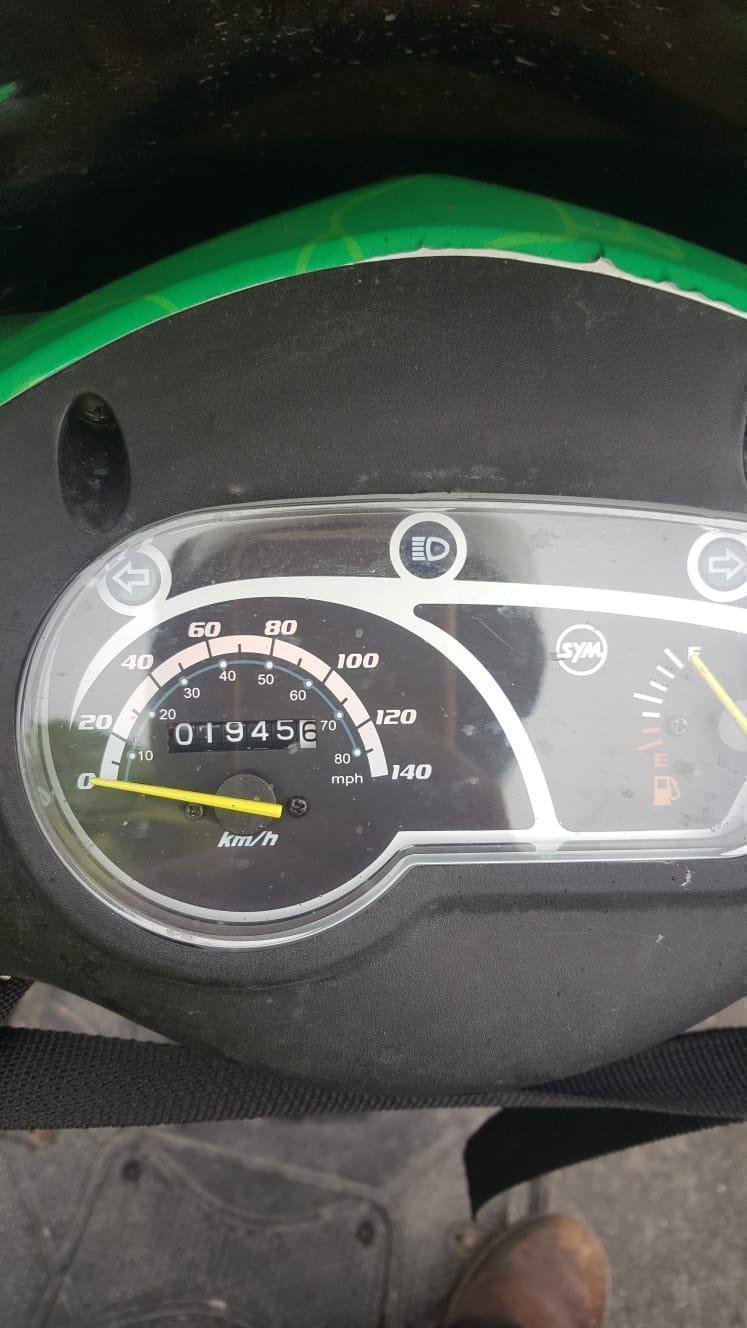0: (172, 721, 195, 751)
1: (202, 719, 217, 747)
4: (249, 720, 271, 741)
5: (275, 716, 295, 743)
6: (301, 720, 318, 745)
9: (223, 718, 246, 747)
odometer: (163, 716, 321, 755)
